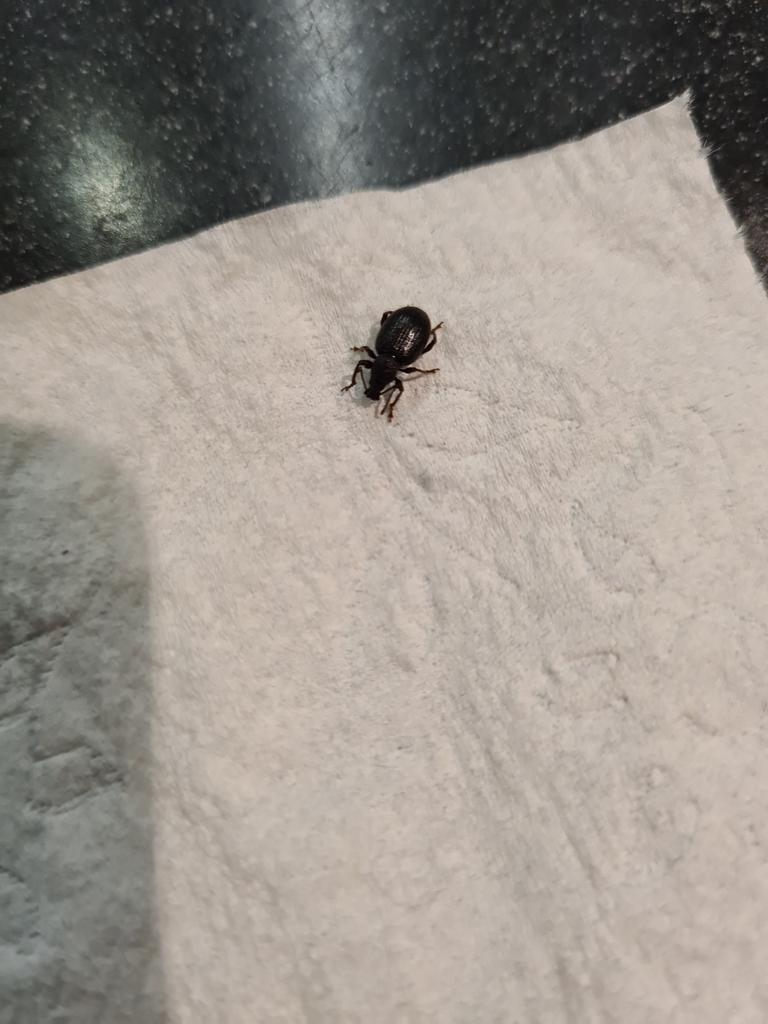weevils: (324, 279, 476, 446)
